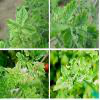Tomato mold leaf: (60, 0, 78, 23), (15, 6, 30, 27), (21, 22, 39, 35), (63, 28, 74, 48), (5, 17, 20, 31)
